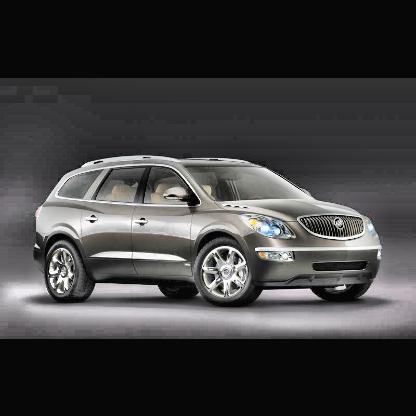Buick Enclave SUV 2012: (28, 148, 388, 313)
